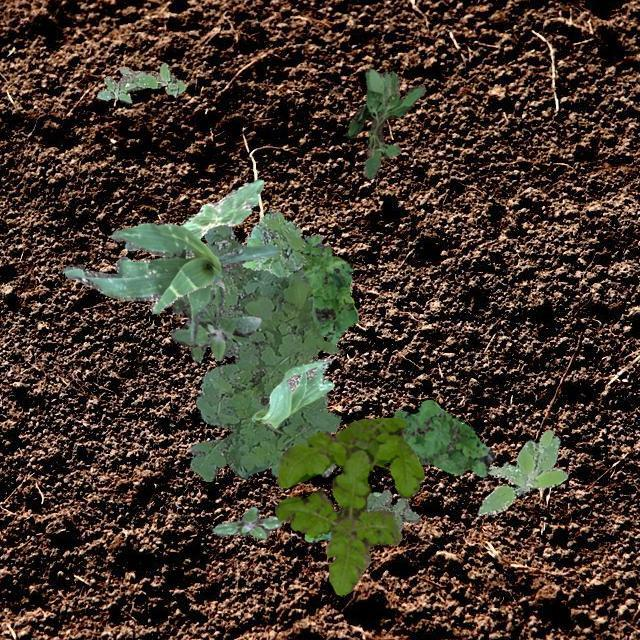crop: (61, 222, 278, 312), (124, 242, 224, 342), (250, 356, 334, 426), (178, 178, 262, 238)
weed: (190, 224, 342, 481), (274, 416, 424, 594), (344, 68, 424, 178), (393, 398, 493, 476), (476, 430, 566, 514), (300, 234, 358, 344), (170, 292, 260, 362), (304, 491, 394, 542), (242, 208, 304, 276), (96, 61, 186, 102), (212, 506, 284, 538), (364, 488, 418, 530), (270, 462, 278, 476)
